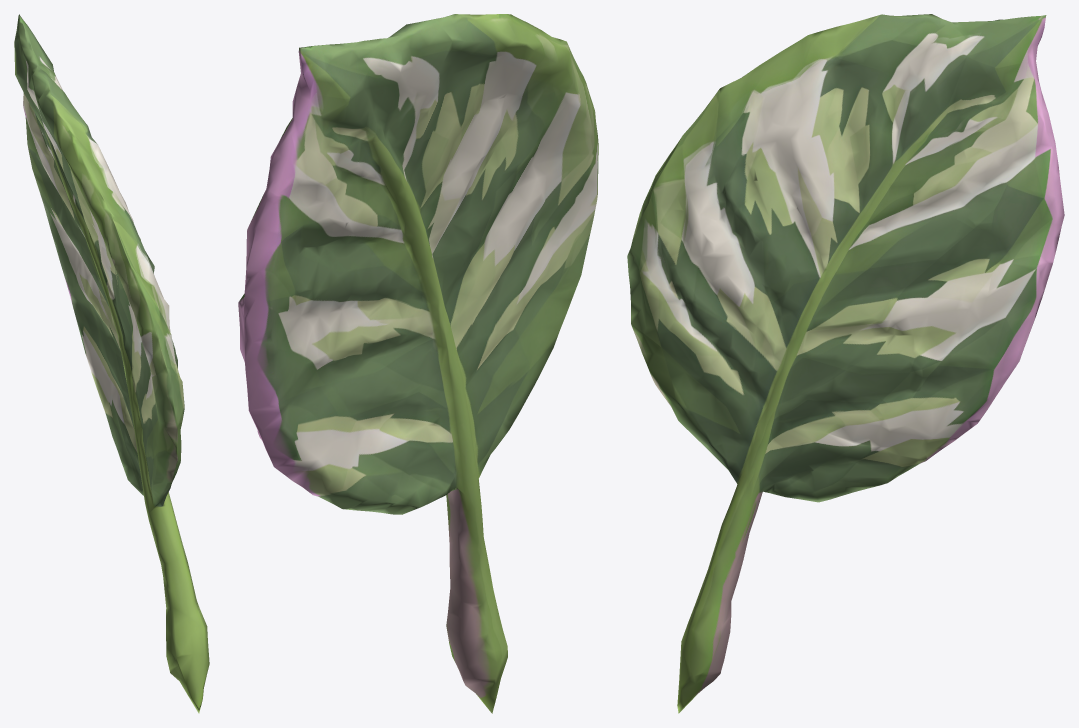
The model's file is ca_mature_whitefusion_tripo.glb.
The picture shows the model from 3 angles, left to right: view 1: azimuth 30°, elevation 25°; view 2: azimuth 150°, elevation 25°; view 3: azimuth 270°, elevation 25°; orthographic projection. The views are drawn at different scales.
Parts seen in each view (by area): view 1: tripo_node_0bd0ef29-92b5-4160-a25c-d205d3ed3b39; view 2: tripo_node_0bd0ef29-92b5-4160-a25c-d205d3ed3b39; view 3: tripo_node_0bd0ef29-92b5-4160-a25c-d205d3ed3b39.
Boxes of the visible parts, x1,y1,x2,y2 form: tripo_node_0bd0ef29-92b5-4160-a25c-d205d3ed3b39: [14, 14, 209, 713]; tripo_node_0bd0ef29-92b5-4160-a25c-d205d3ed3b39: [238, 14, 598, 713]; tripo_node_0bd0ef29-92b5-4160-a25c-d205d3ed3b39: [627, 14, 1064, 713].
Bounding box in the file's own units: 0.1964 × 1 × 0.5774.
Materials: 1 (1 with a texture image).
